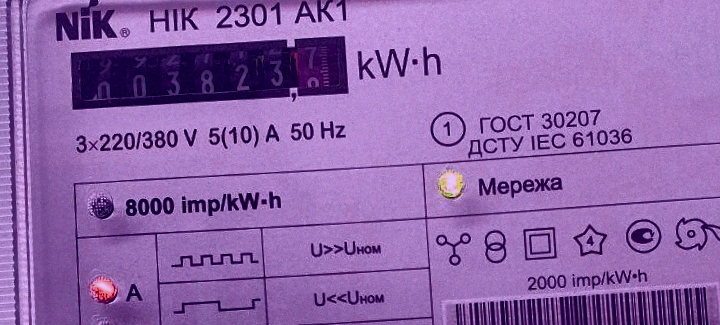0: (127, 69, 149, 97), (93, 76, 113, 100)
2: (232, 59, 253, 93)
3: (266, 56, 287, 87), (163, 66, 183, 96)
7: (302, 43, 321, 72)
8: (197, 65, 216, 94)
9: (94, 55, 113, 75)
screen: (61, 26, 354, 118)
